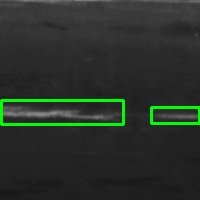scratches: (1, 100, 123, 124), (151, 108, 199, 124)
